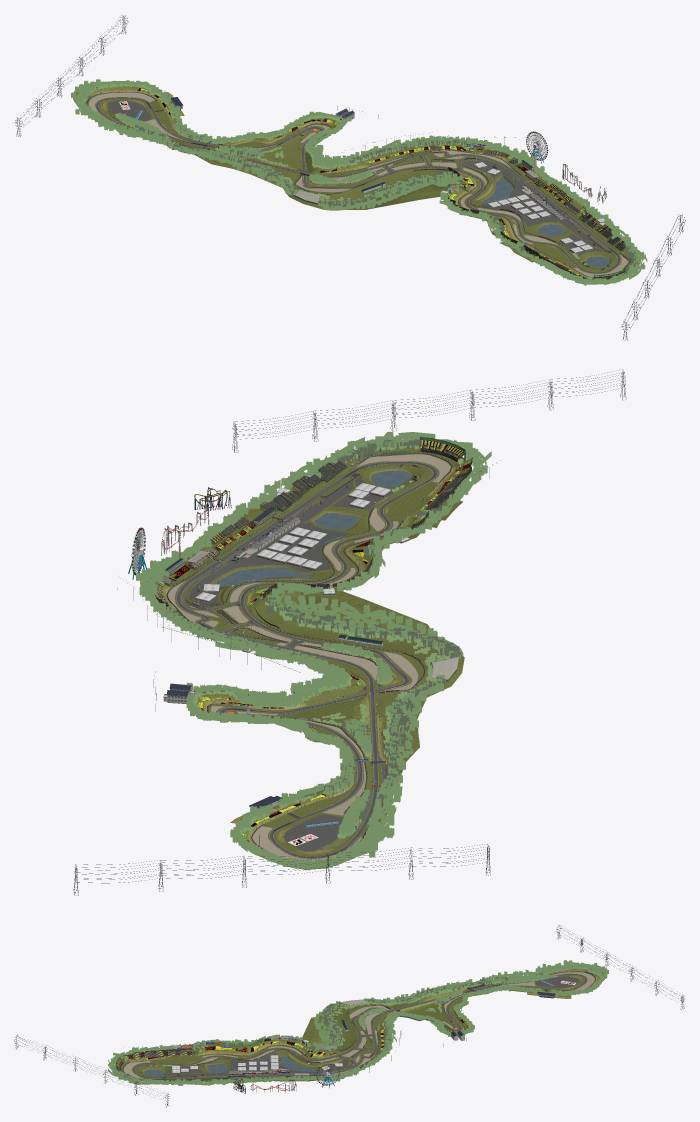
Rendered from suzuka.glb.
The picture shows the model from 3 angles, top to bottom: view 1: azimuth 30°, elevation 25°; view 2: azimuth 150°, elevation 25°; view 3: azimuth 270°, elevation 25°; orthographic projection. The views are drawn at different scales.
Visible parts, largest first — view 1: suzuka; view 2: suzuka; view 3: suzuka.
Part boxes in pixels (bbox=[...]): suzuka: bbox=[14, 14, 685, 340]; suzuka: bbox=[73, 369, 626, 895]; suzuka: bbox=[14, 925, 685, 1107].
Size of the model in its own units: 1671 by 158 by 2972.
326 materials, 313 textured.
